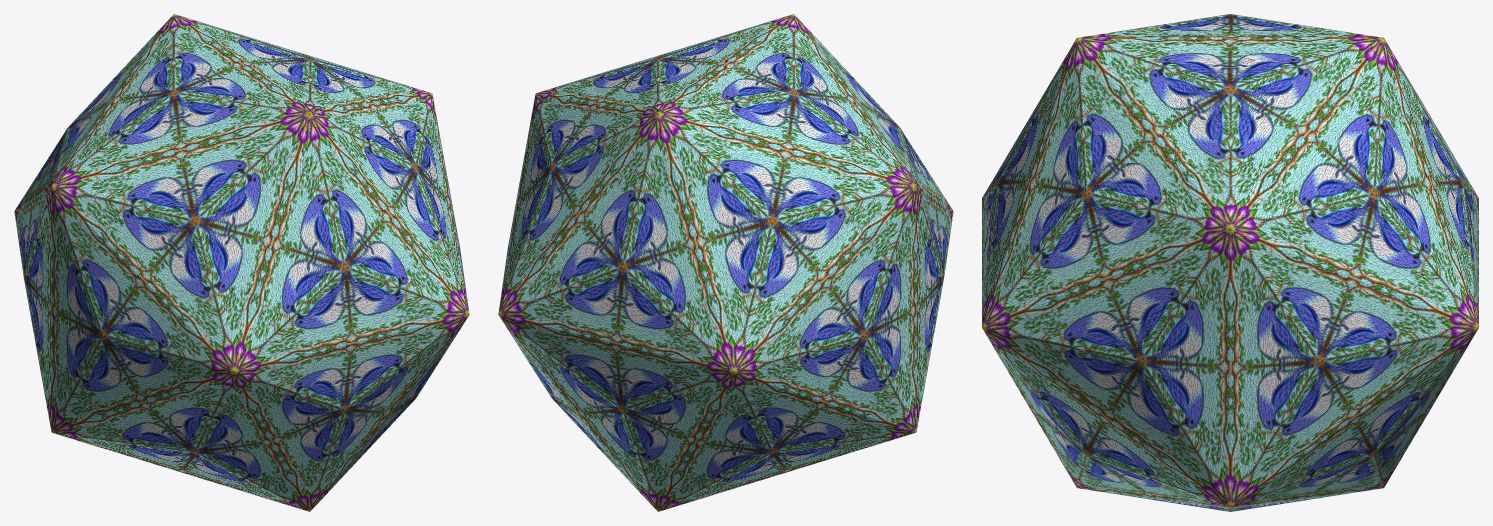
Rendered from TriakisIcosahedron3.obj.
3 renders of one model, left to right at view 1: azimuth 30°, elevation 25°; view 2: azimuth 150°, elevation 25°; view 3: azimuth 270°, elevation 25°, orthographic. The views are drawn at different scales.
Bounding box in the file's own units: 5.85 × 5.85 × 5.85.
Materials: 1 (1 with a texture image).
